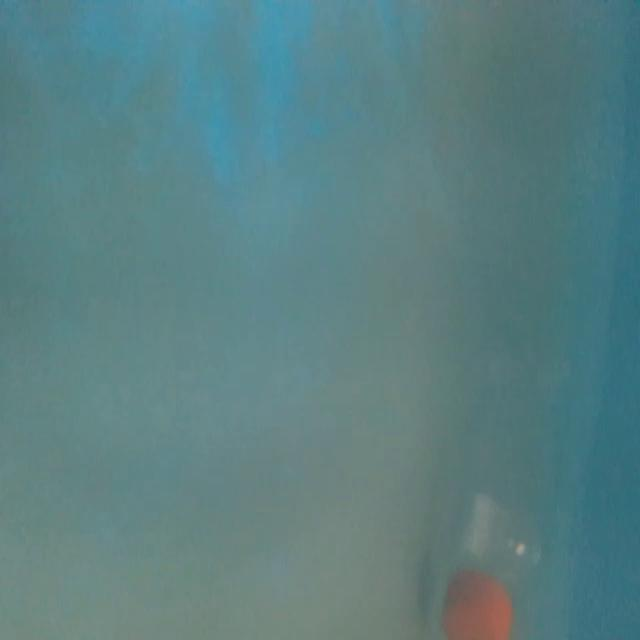plastic bottle: (429, 329, 564, 640)
